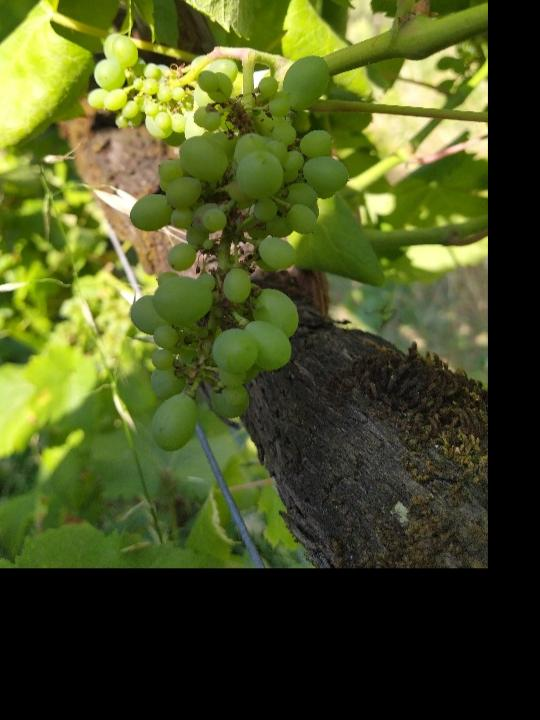grape: (121, 40, 357, 453), (83, 30, 187, 141)
